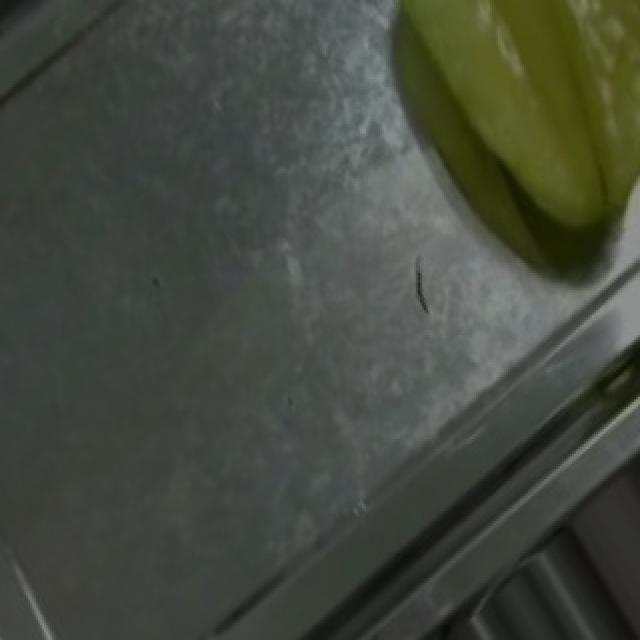fruit: (370, 0, 640, 298), (542, 416, 640, 640)
